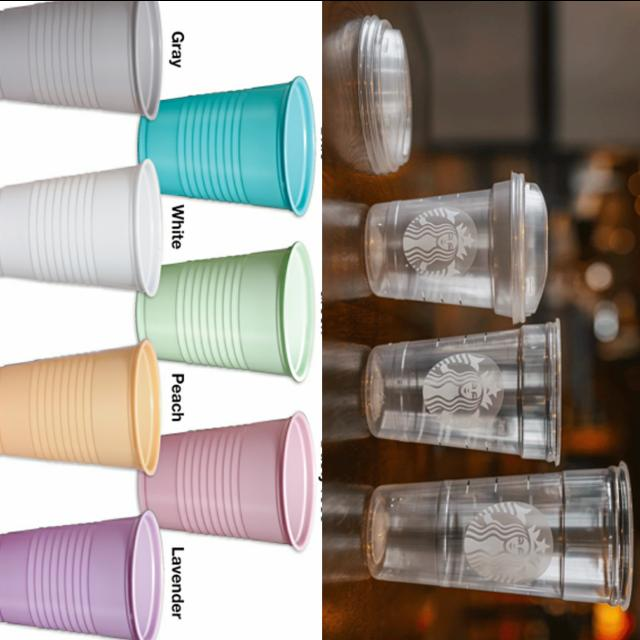plastik: (366, 462, 633, 608), (365, 318, 561, 463), (366, 172, 547, 321), (137, 241, 314, 380), (138, 412, 316, 549), (139, 77, 316, 214), (0, 159, 163, 296), (0, 338, 160, 474), (0, 510, 163, 640), (0, 0, 163, 118)
